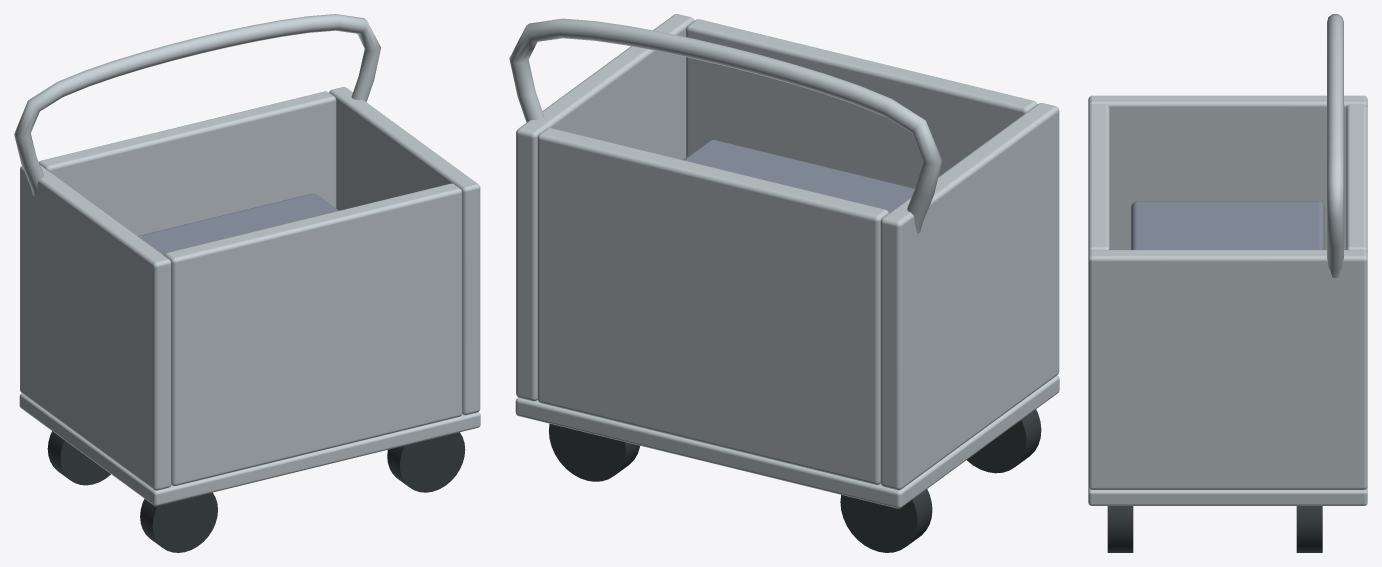
Rendered from recycling-centre-and-material-sorting-textile-collecti-915bc90e__31135.glb.
The picture shows the model from 3 angles, left to right: view 1: azimuth 30°, elevation 25°; view 2: azimuth 150°, elevation 25°; view 3: azimuth 270°, elevation 25°; orthographic projection. The views are drawn at different scales.
Visible parts, largest first — view 1: textile-collection-cart; view 2: textile-collection-cart; view 3: textile-collection-cart.
Part boxes in pixels (x1,y1,x2,y2): textile-collection-cart: (14, 14, 480, 552); textile-collection-cart: (509, 14, 1059, 552); textile-collection-cart: (1088, 14, 1367, 552).
Size of the model in its own units: 1 by 1.06 by 0.6501.
